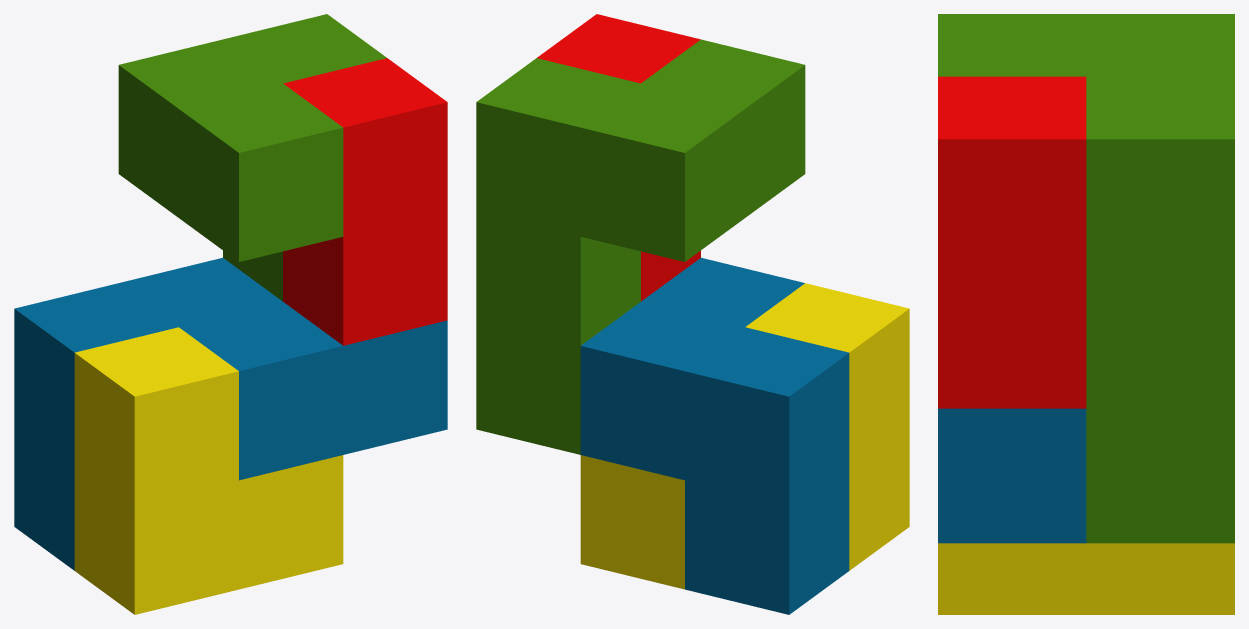
The picture shows the model from 3 angles, left to right: view 1: azimuth 30°, elevation 25°; view 2: azimuth 150°, elevation 25°; view 3: azimuth 270°, elevation 25°; orthographic projection. The views are drawn at different scales.
Parts seen in each view (by area): view 1: mergedBlocks(Clone); view 2: mergedBlocks(Clone); view 3: mergedBlocks(Clone).
Part boxes in pixels (box(x1,y1,x2,y2)): mergedBlocks(Clone): box(14, 14, 447, 614); mergedBlocks(Clone): box(476, 14, 909, 614); mergedBlocks(Clone): box(938, 14, 1234, 614).
Bounding box in the file's own units: 3 × 4 × 2.
4 materials, 4 textured.
